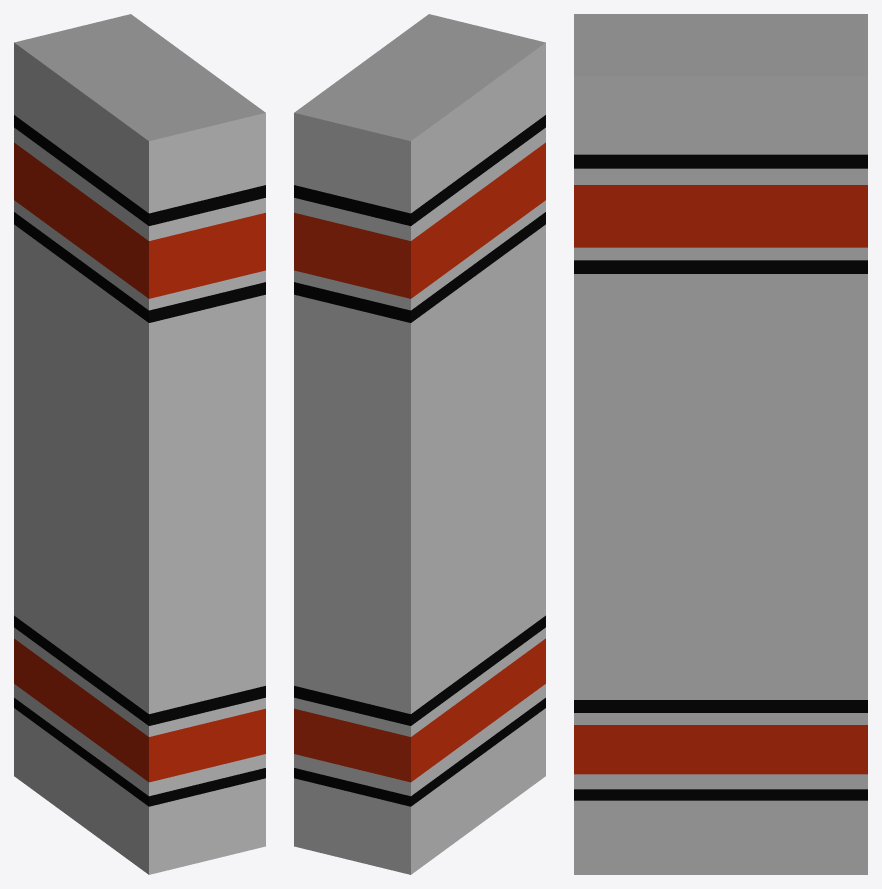
The model's file is Mur_labyrinthe_02.FBX.
The picture shows the model from 3 angles, left to right: view 1: azimuth 30°, elevation 25°; view 2: azimuth 150°, elevation 25°; view 3: azimuth 270°, elevation 25°; orthographic projection. The views are drawn at different scales.
Visible parts, largest first — view 1: Box005; view 2: Box005; view 3: Box005.
Boxes of the visible parts, x1,y1,x2,y2 form: Box005: [14, 14, 265, 874]; Box005: [294, 14, 545, 874]; Box005: [574, 14, 867, 874].
Size of the model in its own units: 1 by 6 by 2.
